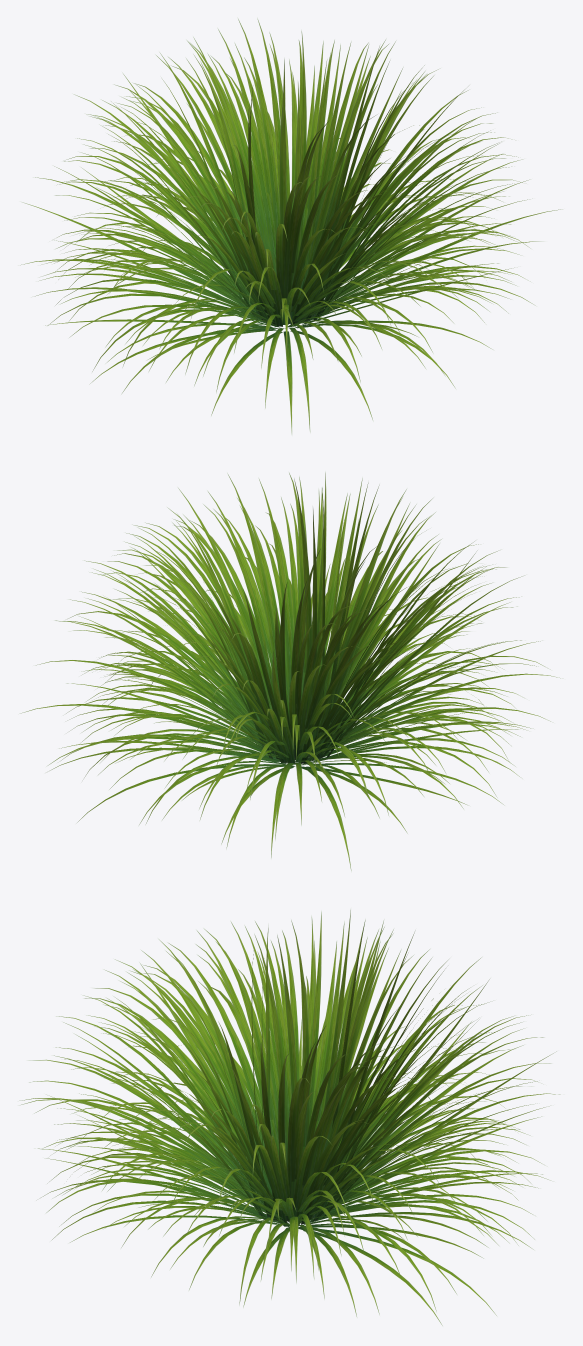
File: lemon_grass.glb
The picture shows the model from 3 angles, top to bottom: view 1: azimuth 30°, elevation 25°; view 2: azimuth 150°, elevation 25°; view 3: azimuth 270°, elevation 25°; orthographic projection. The views are drawn at different scales.
Parts seen in each view (by area): view 1: LOD0; view 2: LOD0; view 3: LOD0.
Part boxes in pixels (left/top/right/bottom): LOD0: left=21, top=19, right=560, bottom=432; LOD0: left=21, top=472, right=557, bottom=870; LOD0: left=21, top=910, right=559, bottom=1325.
Size of what is drawn, in the model's own units: 0.1105 by 0.0686 by 0.1062.
1 material, 1 textured.
